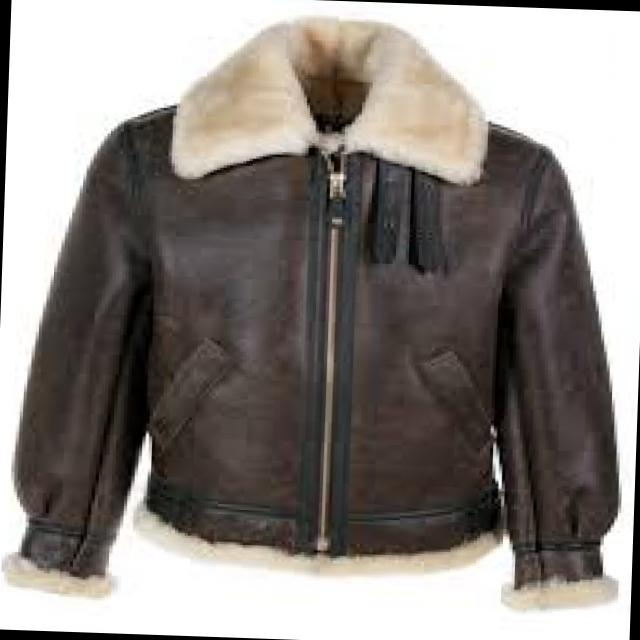Jacket: (21, 8, 599, 584)
